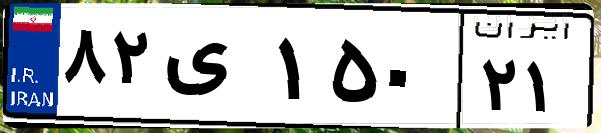0: (385, 28, 445, 110)
1: (270, 28, 330, 110), (525, 38, 570, 115)
2: (475, 38, 525, 113), (110, 28, 158, 98)
5: (330, 28, 385, 110)
8: (57, 26, 110, 100)
ی: (158, 20, 270, 120)
